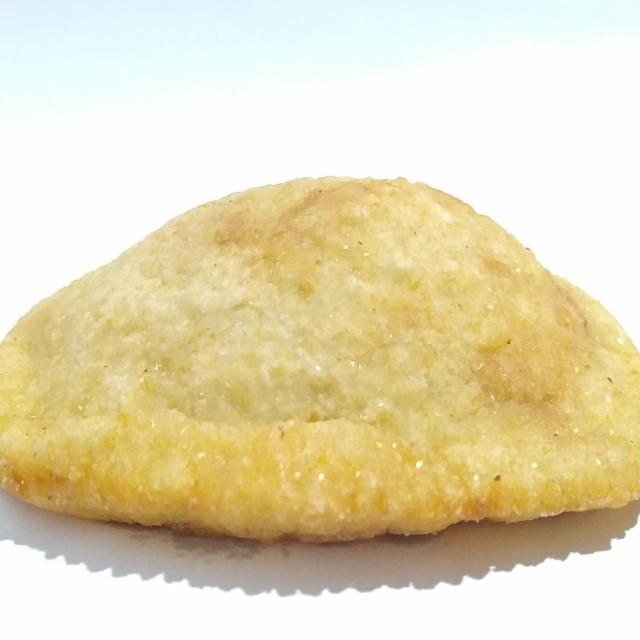Food: (0, 156, 640, 561)
